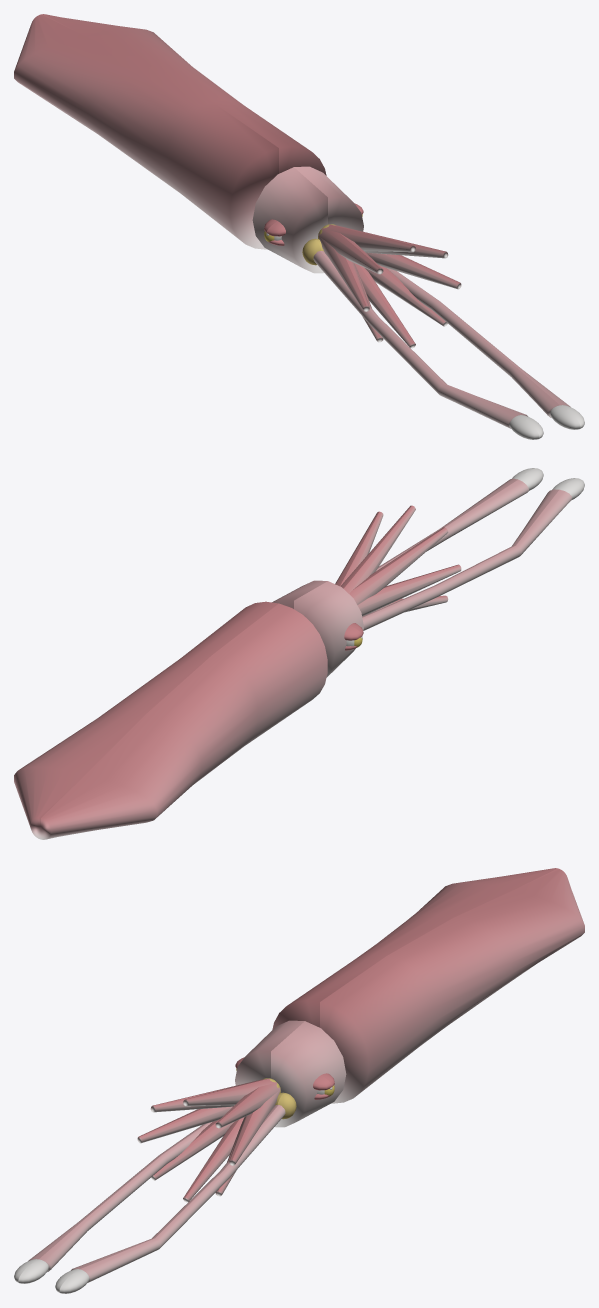
The model's file is squid.glb.
3 views of the same model, one above another, from view 1: azimuth 30°, elevation 25°; view 2: azimuth 150°, elevation 25°; view 3: azimuth 330°, elevation 25° (orthographic).
Parts seen in each view (by area): view 1: Mantle, Arms_Cluster, Head, Tentacle_L, Tentacle_R; view 2: Mantle, Arms_Cluster, Head, Tentacle_L, Tentacle_R; view 3: Mantle, Arms_Cluster, Head, Tentacle_R, Tentacle_L.
Boxes of the visible parts, <box> form: Mantle: <box>14,14,326,249</box>; Arms_Cluster: <box>318,224,461,348</box>; Head: <box>252,166,363,273</box>; Tentacle_L: <box>302,238,543,439</box>; Tentacle_R: <box>387,268,584,429</box>; Mantle: <box>14,601,327,839</box>; Arms_Cluster: <box>335,505,461,616</box>; Head: <box>272,580,363,677</box>; Tentacle_L: <box>362,478,584,630</box>; Tentacle_R: <box>376,468,543,571</box>; Mantle: <box>272,868,584,1103</box>; Arms_Cluster: <box>137,1078,280,1202</box>; Head: <box>235,1020,346,1127</box>; Tentacle_R: <box>55,1092,296,1293</box>; Tentacle_L: <box>14,1122,211,1283</box>.
Size of the model in its own units: 0.5565 by 0.3828 by 3.49.
